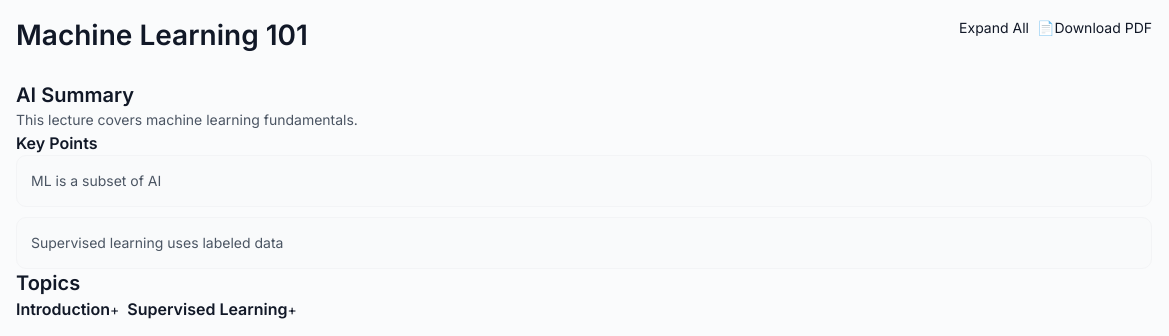
Test: NotesViewer › should toggle expand all button text when clicked
This screenshot has width=1169, height=336.
Click the button with test id "expand-all-button" at x=994, y=28, box x1=959 y1=17 x2=1029 y2=39
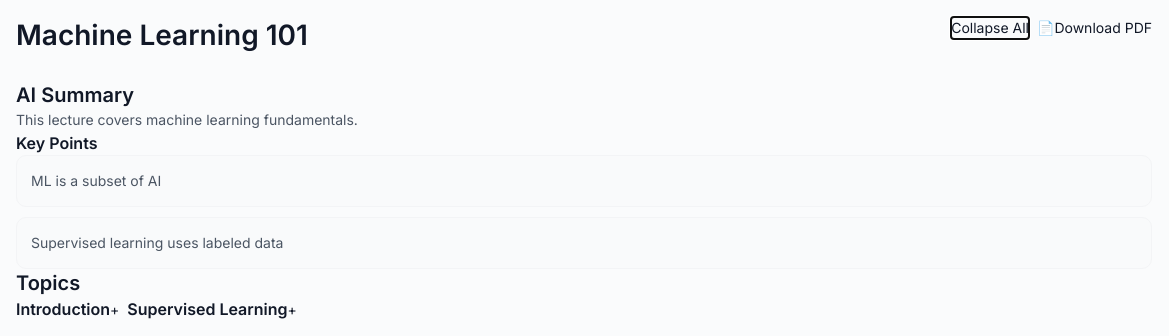
Expected: the button with test id "expand-all-button" reads "Collapse All", x1=951 y1=17 x2=1029 y2=39
